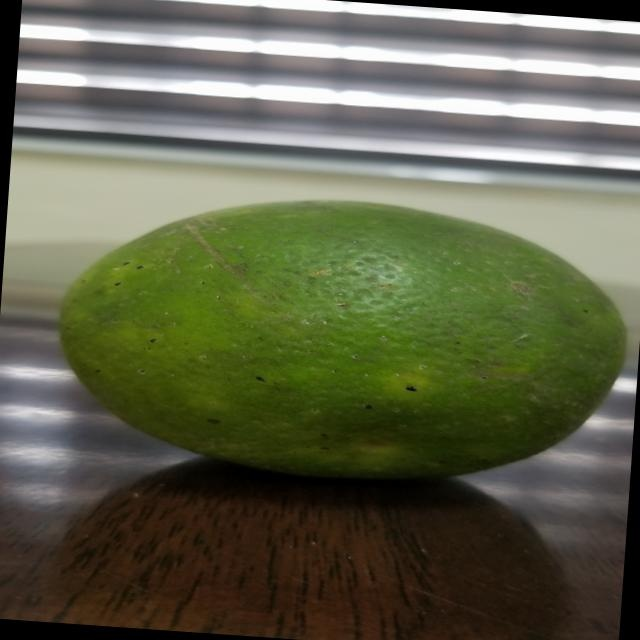agrume: (0, 176, 637, 500)
